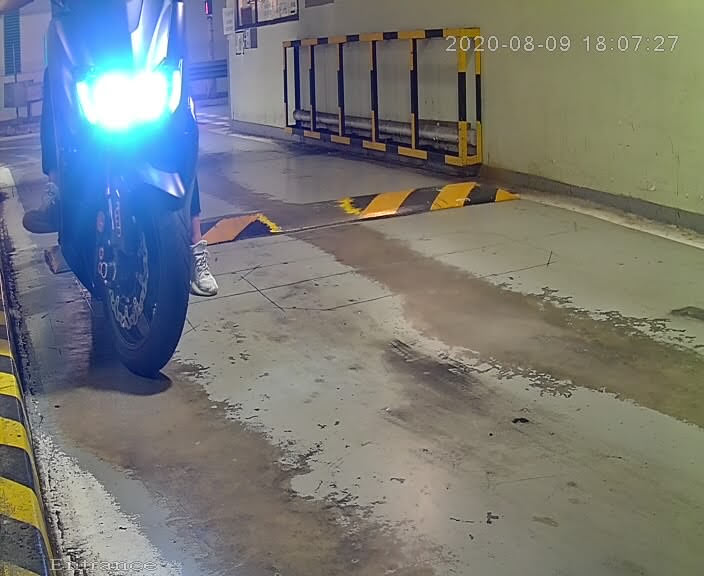motorcycle: (3, 1, 231, 390)
